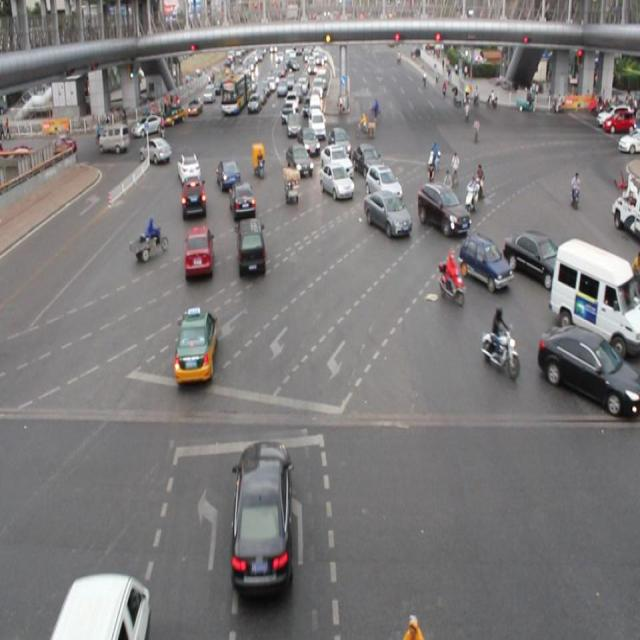car: (536, 323, 640, 416), (234, 442, 292, 591), (502, 228, 566, 286), (173, 309, 218, 387), (458, 233, 511, 287), (417, 181, 469, 236), (363, 186, 410, 238), (236, 218, 267, 279), (184, 225, 212, 282), (364, 163, 403, 202), (319, 162, 353, 198), (318, 142, 352, 178), (180, 174, 207, 218), (352, 142, 386, 176), (229, 180, 255, 221), (139, 137, 172, 164), (285, 143, 312, 175), (326, 126, 351, 160), (217, 159, 241, 192), (178, 151, 200, 186), (297, 126, 319, 157)
truck: (550, 236, 640, 356), (53, 575, 153, 640)
